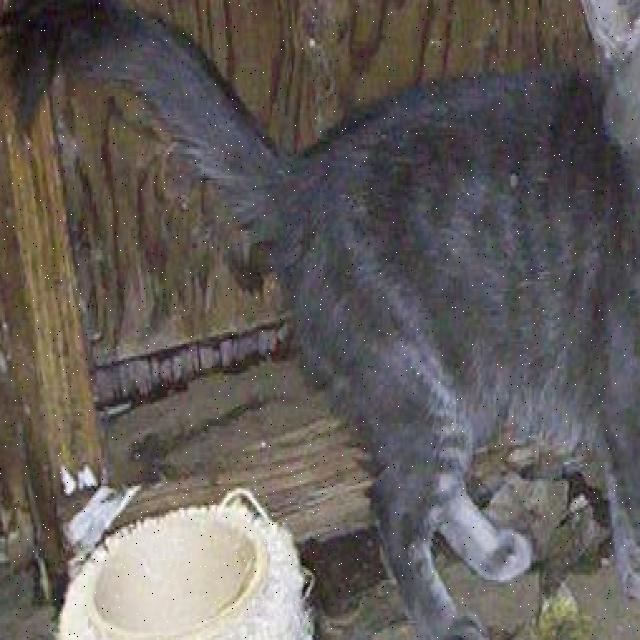Cat: (585, 0, 640, 154)
